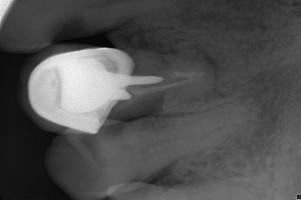Furcation Involvement: (196, 43, 216, 65)
